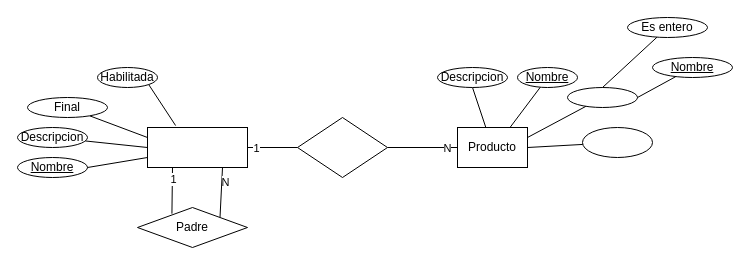
This 750x265 diagram has some shape labels left out. Each missing label, with the centre of its shape:
Cantidad: point 617,142
Categoria: point 197,147
Contiene: point 342,147
Unidad: point 602,97
